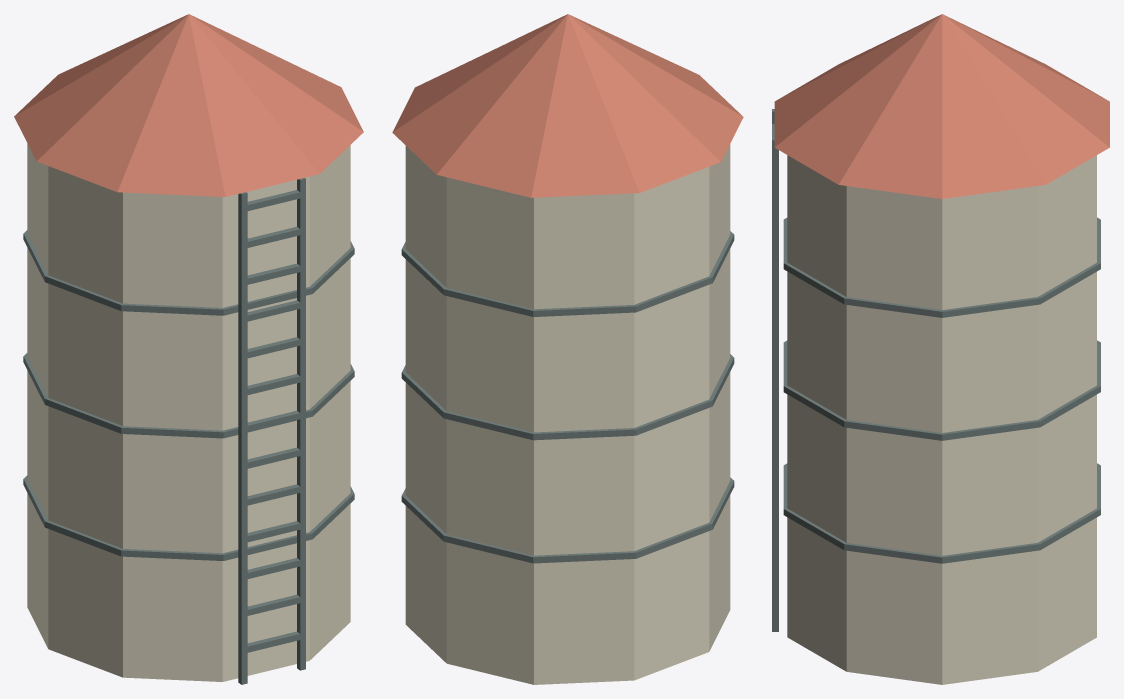
The model's file is cozy-farm-and-homestead-grain-silo-f1ab413d__19365.glb.
3 views of the same model, side by side, from view 1: azimuth 30°, elevation 25°; view 2: azimuth 150°, elevation 25°; view 3: azimuth 270°, elevation 25° (orthographic).
Parts seen in each view (by area): view 1: grain-silo; view 2: grain-silo; view 3: grain-silo.
Part boxes in pixels (<box>): grain-silo: <box>14,14,363,684</box>; grain-silo: <box>392,14,743,684</box>; grain-silo: <box>772,14,1109,684</box>.
Size of the model in its own units: 2.6 by 4.9 by 2.49.
